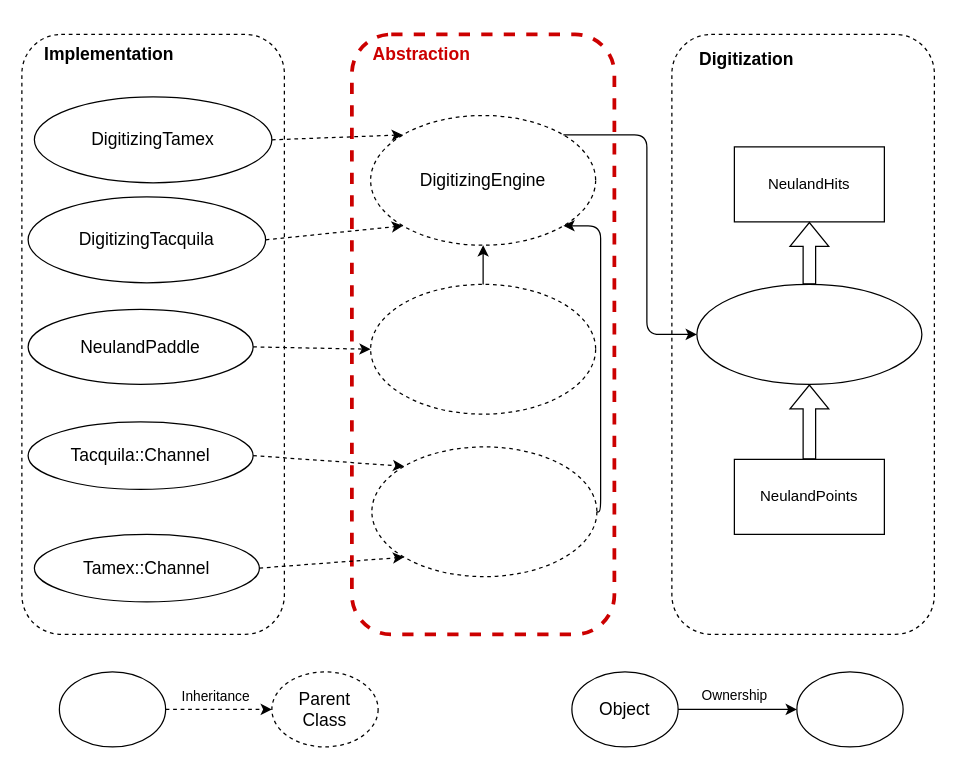
This 956x769 diagram has some shape labels left out. Here are the shapes that lost their labels. From the top down, the box of each, then its label:
(369, 283, 596, 414): Paddle
(696, 283, 922, 384): NeulandDigitizer
(371, 446, 597, 577): Channel
(58, 671, 166, 747): Child Class
(796, 671, 903, 747): Owner
